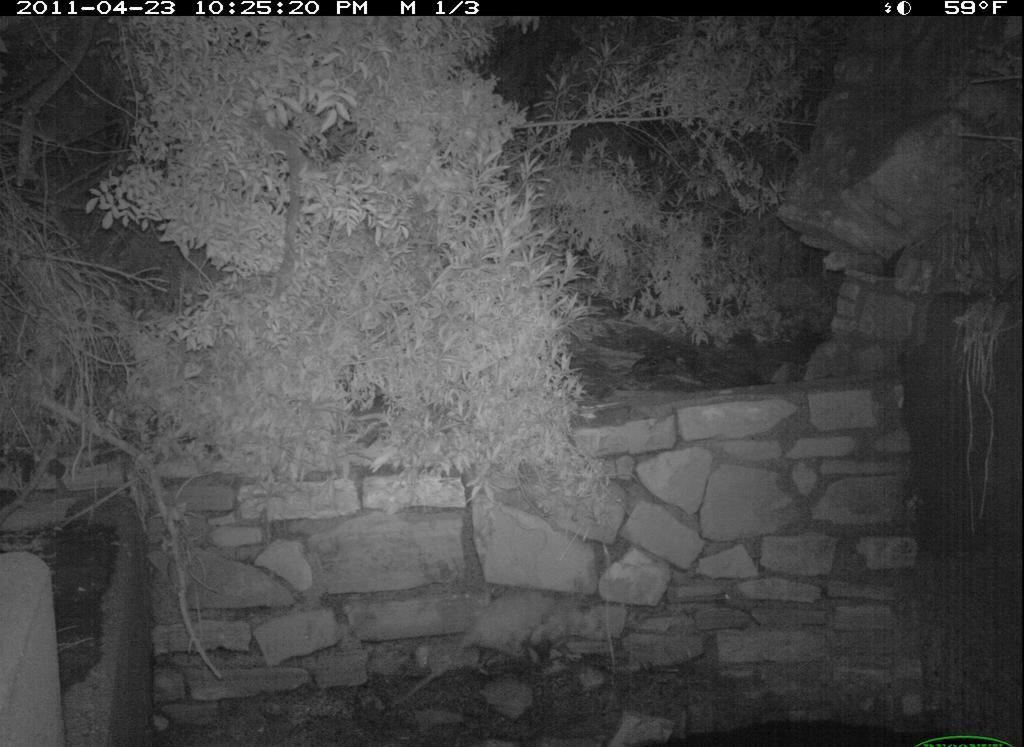opossum: (395, 583, 597, 720)
